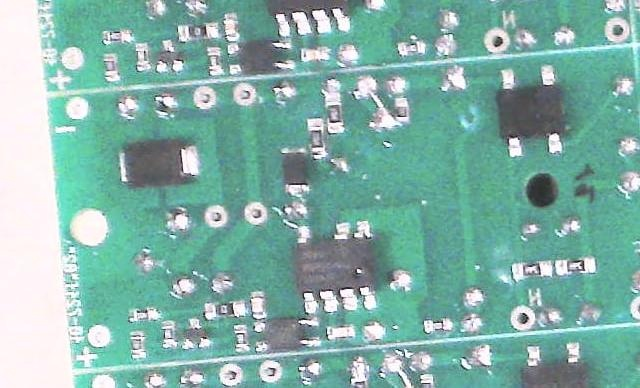chip-capacitor: (297, 44, 331, 63), (326, 323, 356, 342), (250, 289, 266, 320), (222, 12, 238, 40)
chip-resistor: (201, 298, 247, 320), (554, 255, 598, 278), (510, 260, 553, 283), (179, 21, 218, 42), (325, 91, 343, 135), (308, 119, 325, 157), (421, 316, 454, 335), (396, 38, 426, 57), (391, 98, 410, 127), (128, 307, 160, 324), (102, 28, 132, 46), (232, 323, 248, 355), (207, 45, 223, 77), (160, 319, 176, 350), (134, 42, 150, 73), (129, 330, 145, 360), (102, 52, 118, 81)
diode: (117, 138, 200, 191), (280, 146, 308, 199)
ic: (294, 220, 378, 316), (495, 64, 569, 161), (252, 316, 321, 356), (226, 38, 294, 77)
transistor: (179, 316, 212, 352), (154, 38, 186, 75)
